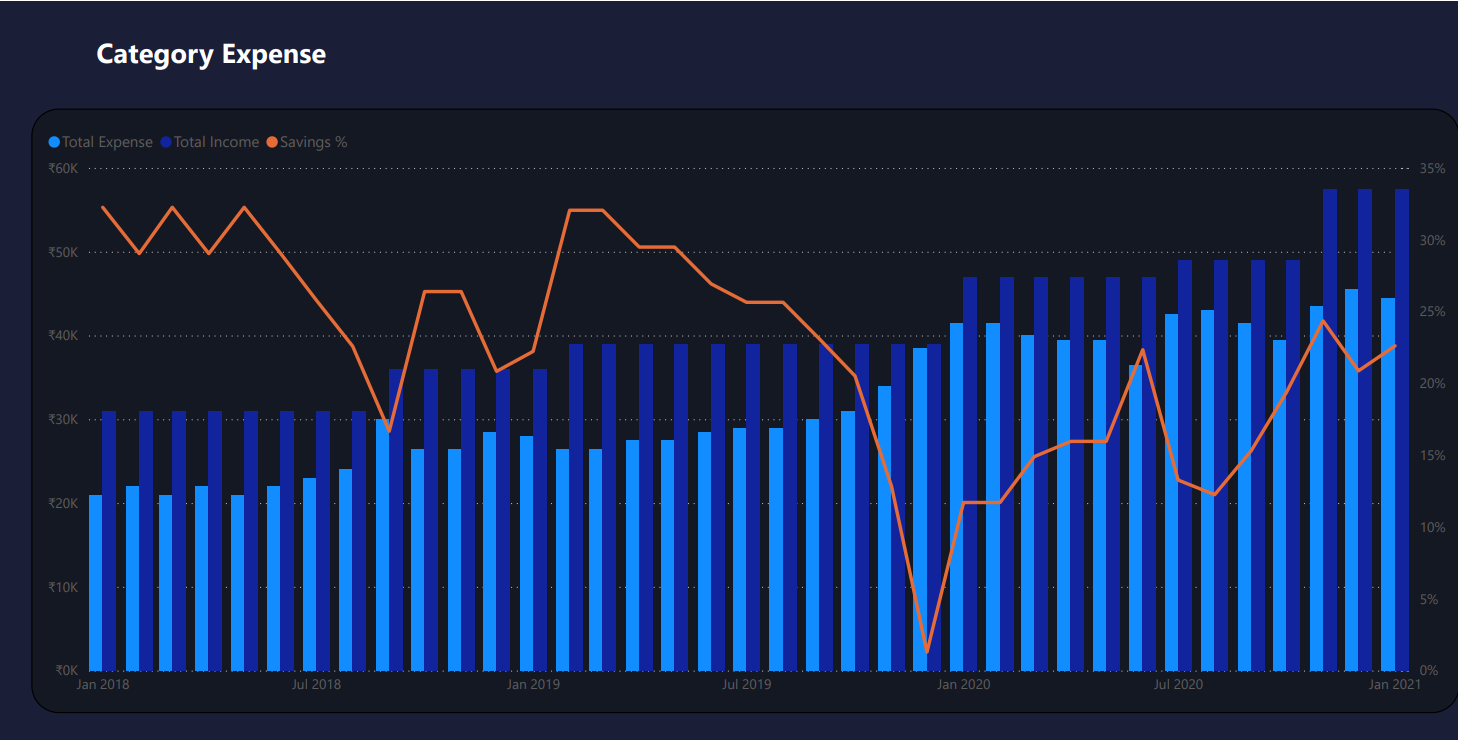

The dashboard page shown, as its layout file describes it:
{"tool":"powerbi","page":{"name":"Category Expense","canvas":[1280,720],"ordinal":4},"visuals":[{"type":"lineClusteredColumnComboChart","fields":{"Category":["FinData.Date"],"Y":["Key Measures.Total Expense","Key Measures.Total Income"],"Y2":["Key Measures.Savings %"]},"box":[27.7,94.3,1252.3,530.2],"z":0},{"type":"textbox","box":[80.2,23.3,300,46.5],"z":1000}]}

Visuals, with their boxes on the page's 1280x720 design canvas (x1, y1, x2, y2). These are canvas units, not pixel positions in the 1458x740 screenshot, which may show the page scaled, cropped or inside an application window:
lineClusteredColumnComboChart - FinData.Date x Key Measures.Total Expense: 28 94 1280 624
textbox: 80 23 380 70
